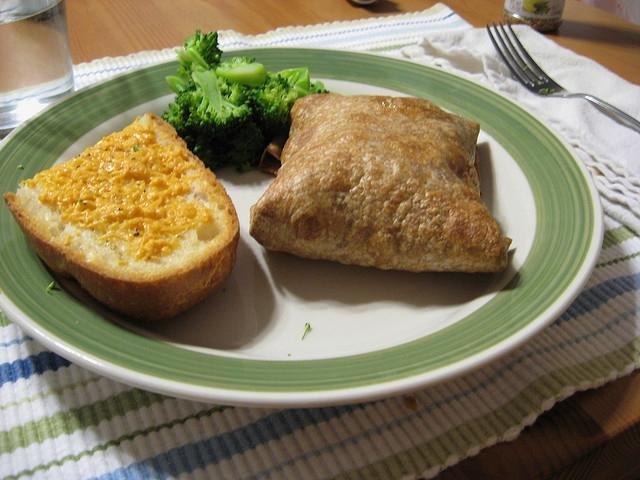broccoli: (164, 68, 254, 137), (216, 56, 266, 90), (184, 30, 224, 66)
